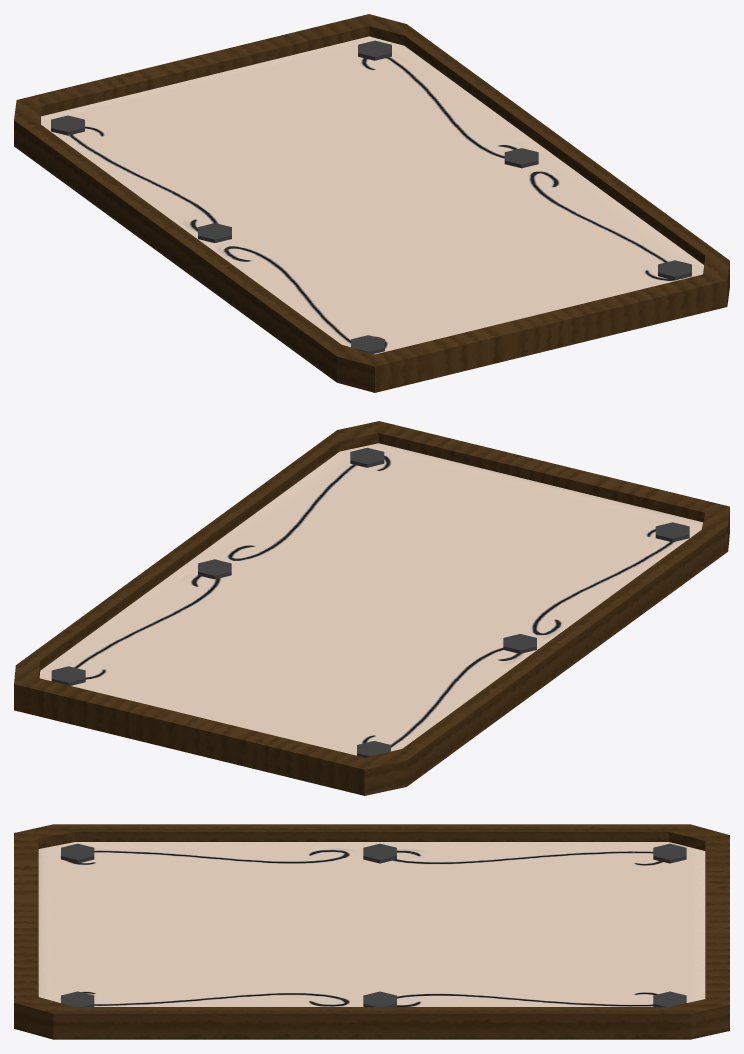
The model's file is Cardápio.fbx.
3 renders of one model, top to bottom at view 1: azimuth 30°, elevation 25°; view 2: azimuth 150°, elevation 25°; view 3: azimuth 270°, elevation 25°, orthographic.
Visible parts, largest first — view 1: pCylinder100; view 2: pCylinder100; view 3: pCylinder100.
Part boxes in pixels (<box>): pCylinder100: <box>14,14,729,392</box>; pCylinder100: <box>14,421,729,795</box>; pCylinder100: <box>14,824,729,1039</box>.
Size of the model in its own units: 29.98 by 1.92 by 47.94.
